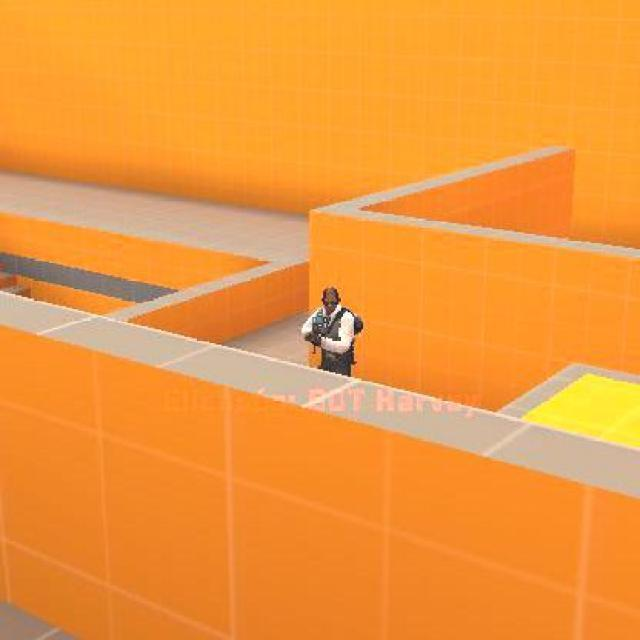T: (301, 286, 357, 377)
T_HEAD: (318, 286, 342, 316)
